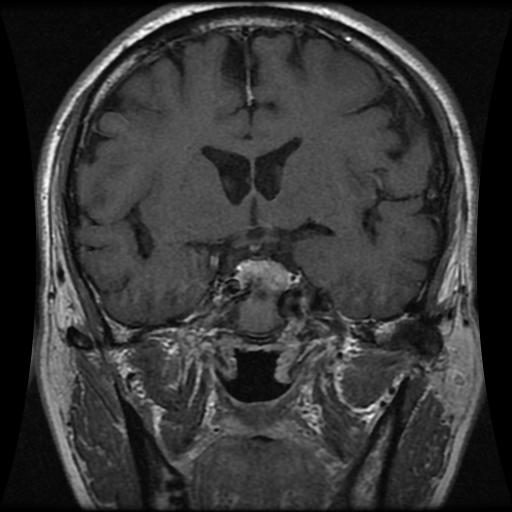Pituirity_tumour: (236, 260, 294, 289)
